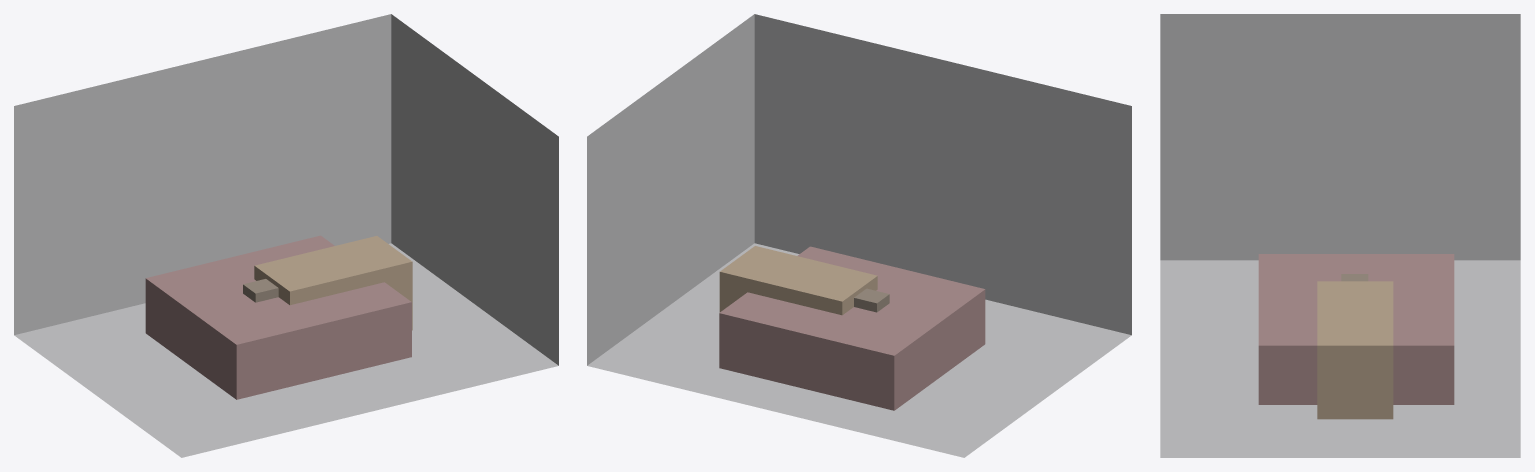
File: current_layout.glb
The picture shows the model from 3 angles, left to right: view 1: azimuth 30°, elevation 25°; view 2: azimuth 150°, elevation 25°; view 3: azimuth 270°, elevation 25°; orthographic projection. The views are drawn at different scales.
Visible parts, largest first — view 1: room, bed, desk, suitcase; view 2: room, bed, desk, suitcase; view 3: room, bed, desk.
Part boxes in pixels (<box>): room: <box>14,14,558,457</box>; bed: <box>145,235,411,399</box>; desk: <box>254,236,412,330</box>; suitcase: <box>243,279,278,302</box>; room: <box>587,14,1131,457</box>; bed: <box>719,246,985,410</box>; desk: <box>719,246,877,315</box>; suitcase: <box>854,288,889,312</box>; room: <box>1160,14,1520,457</box>; bed: <box>1258,254,1454,404</box>; desk: <box>1317,281,1393,419</box>.
Size of the model in its own units: 4.31 by 2.5 by 3.31.
